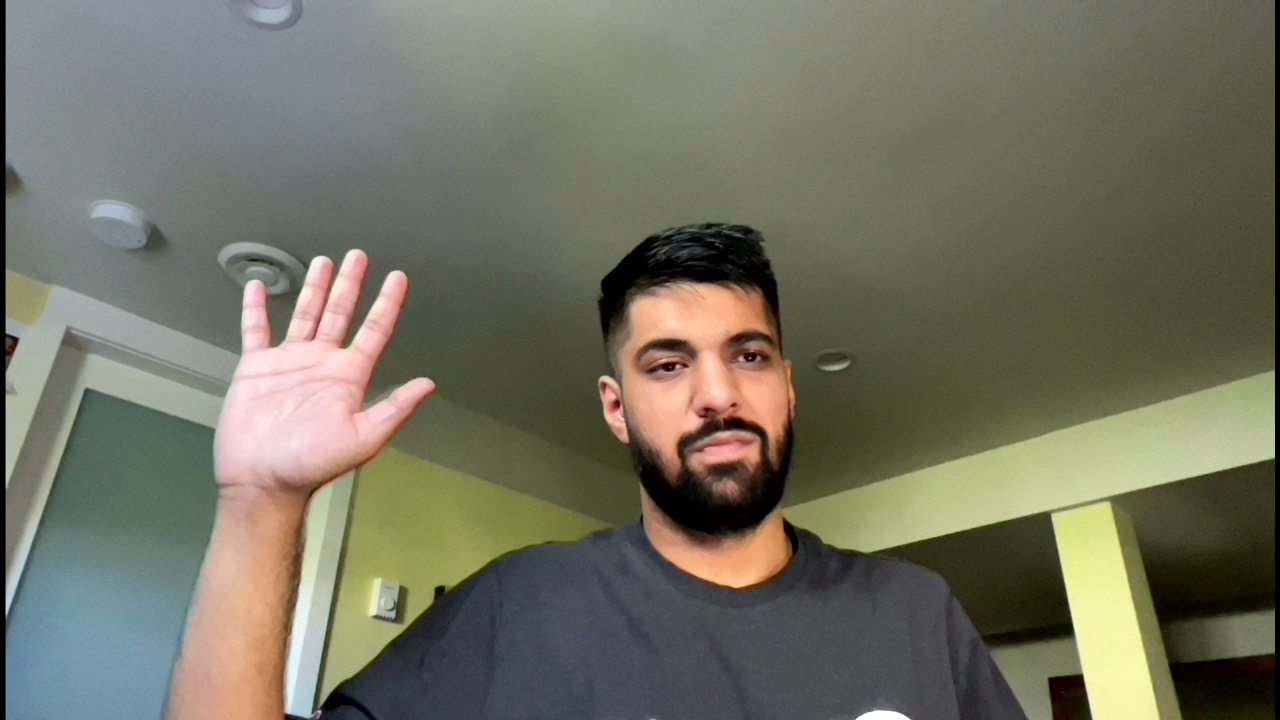Hey!: (187, 243, 443, 500)
